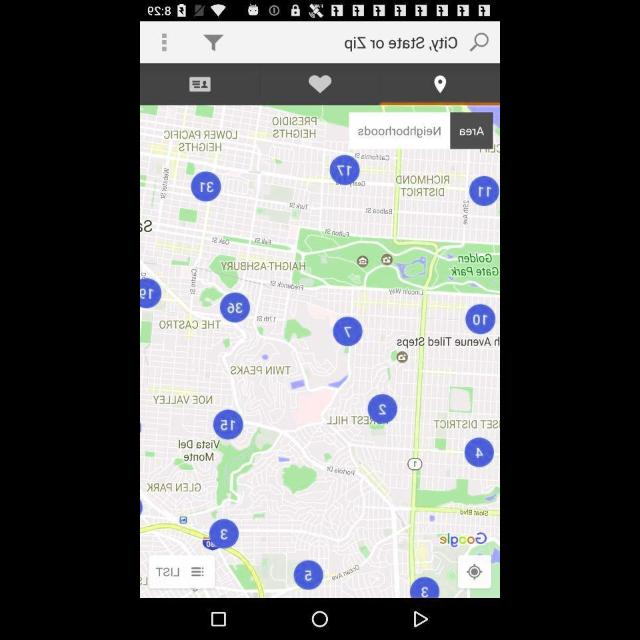icon: (469, 32, 488, 54), (308, 76, 332, 92), (203, 34, 224, 50), (190, 76, 210, 92), (412, 610, 428, 628), (312, 610, 328, 628), (466, 564, 482, 580), (434, 74, 446, 94), (212, 611, 226, 627), (160, 32, 168, 52)
map: (141, 107, 499, 598)
multitab: (141, 63, 499, 105)
panel: (141, 598, 499, 638)
text: (344, 34, 460, 54)
toolbar: (140, 22, 500, 64)
uppertaskbar: (140, 1, 500, 21)
